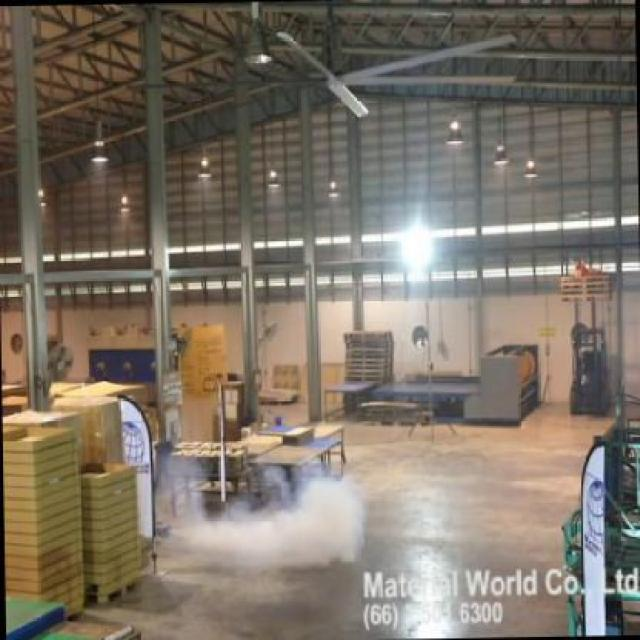fire: (204, 466, 378, 579)
